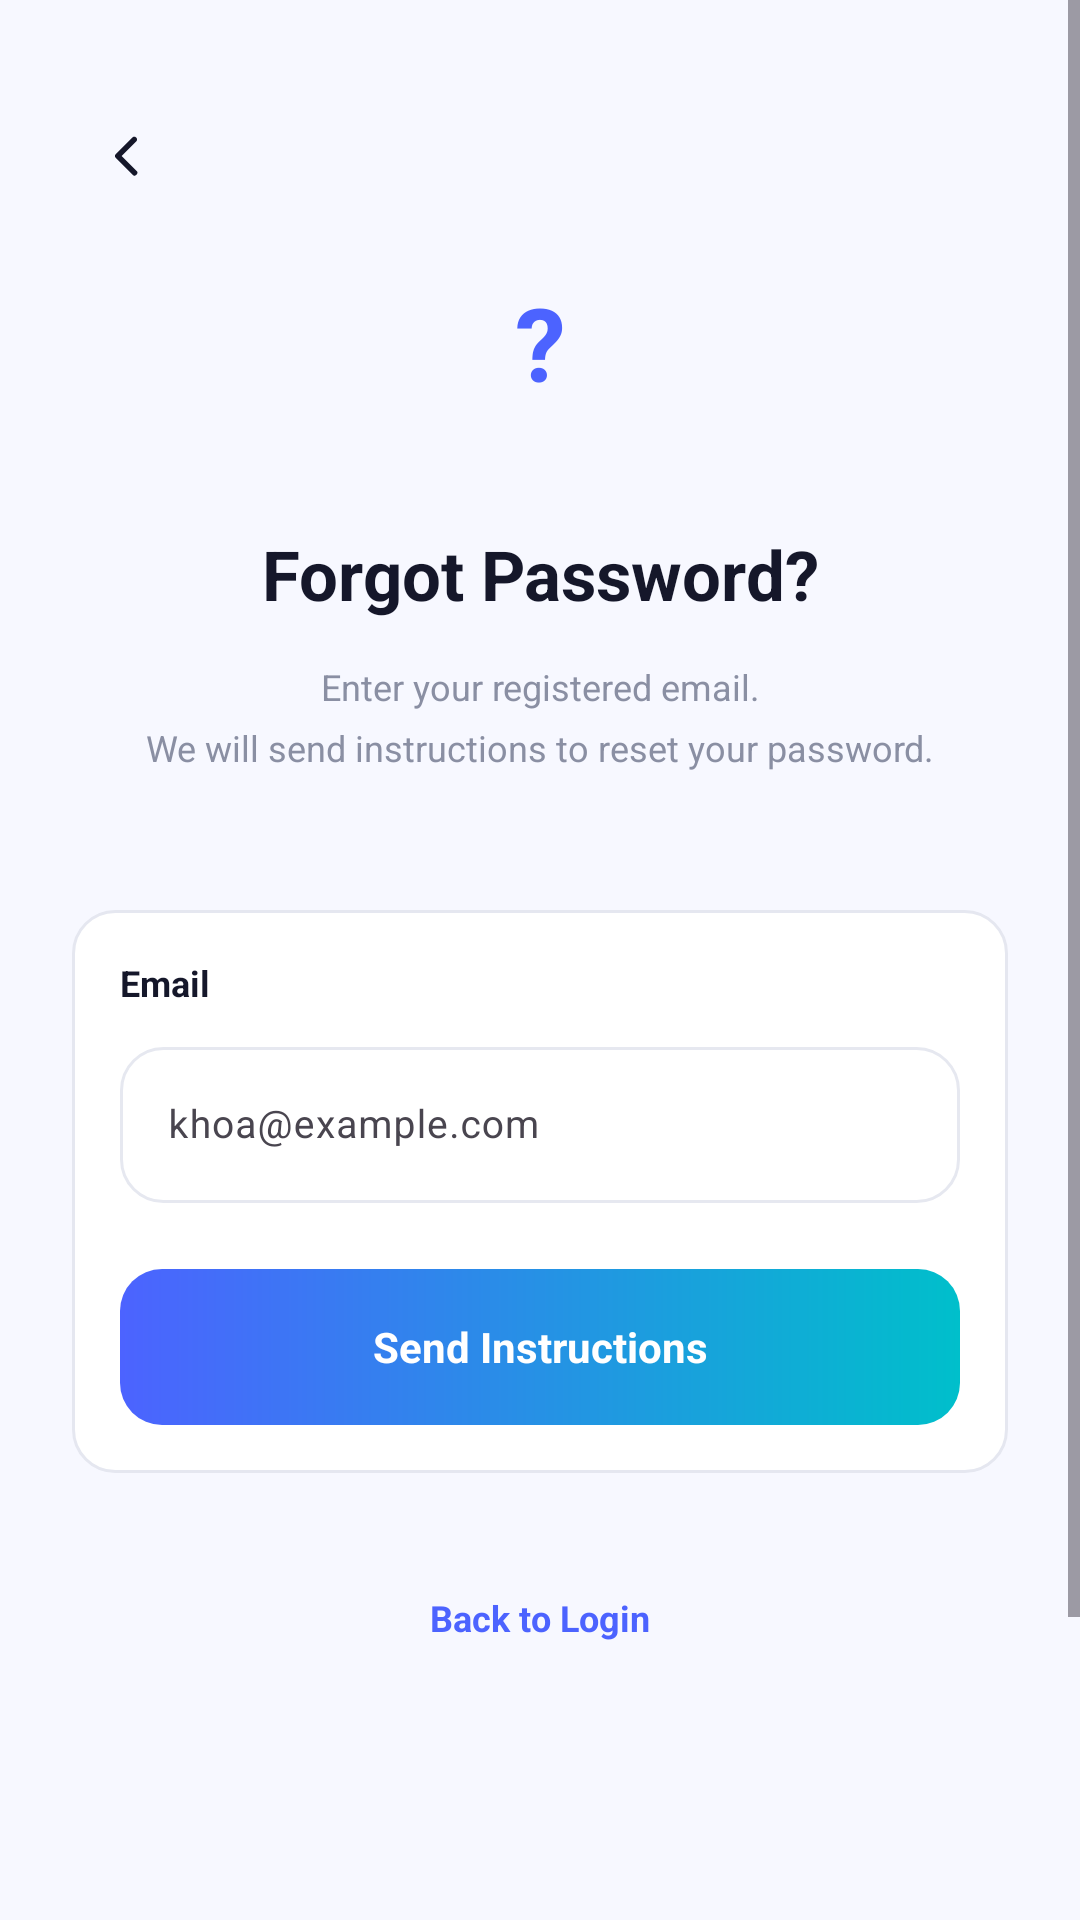

Screen size 1080x1920. Icon name, then its center in pixels as [x,y]:
Back: [126,156]
